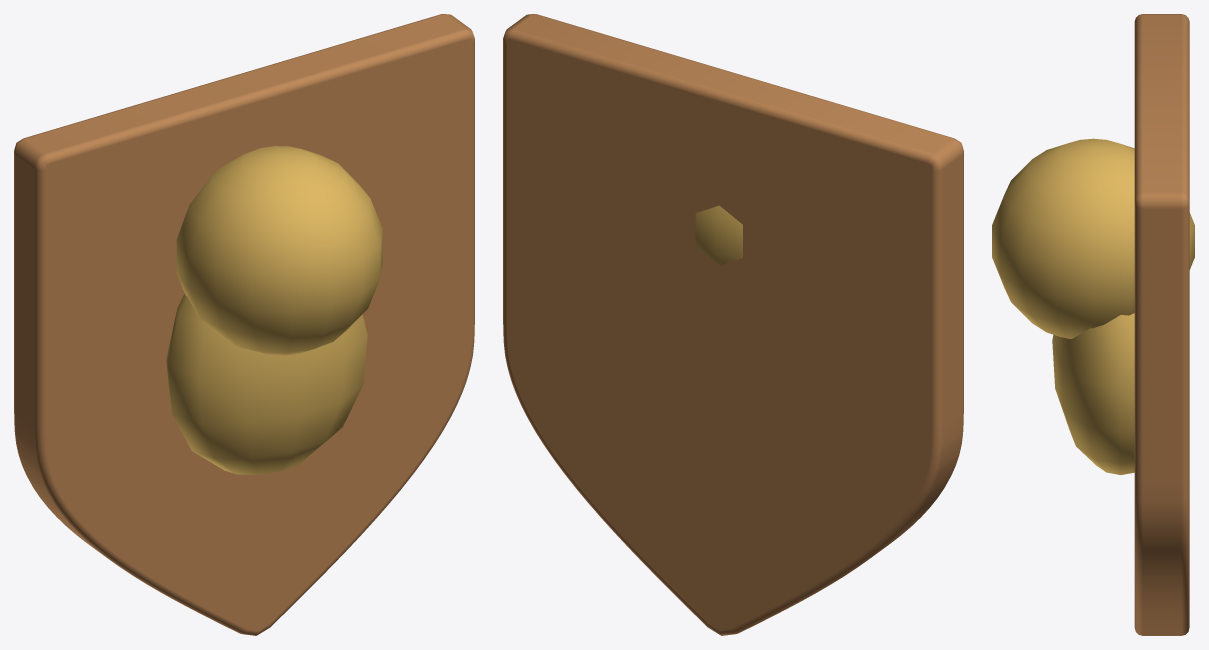
The model's file is bust_relief_plaque.glb.
3 views of the same model, side by side, from view 1: azimuth 30°, elevation 25°; view 2: azimuth 150°, elevation 25°; view 3: azimuth 270°, elevation 25° (orthographic). The views are drawn at different scales.
Parts seen in each view (by area): view 1: bust_relief_plaque_mesh; view 2: bust_relief_plaque_mesh; view 3: bust_relief_plaque_mesh.
Boxes of the visible parts, left/top/right/bottom form: bust_relief_plaque_mesh: left=14, top=14, right=474, bottom=635; bust_relief_plaque_mesh: left=503, top=14, right=963, bottom=635; bust_relief_plaque_mesh: left=992, top=14, right=1194, bottom=635.
Bounding box in the file's own units: 0.36 × 0.4355 × 0.1477.
